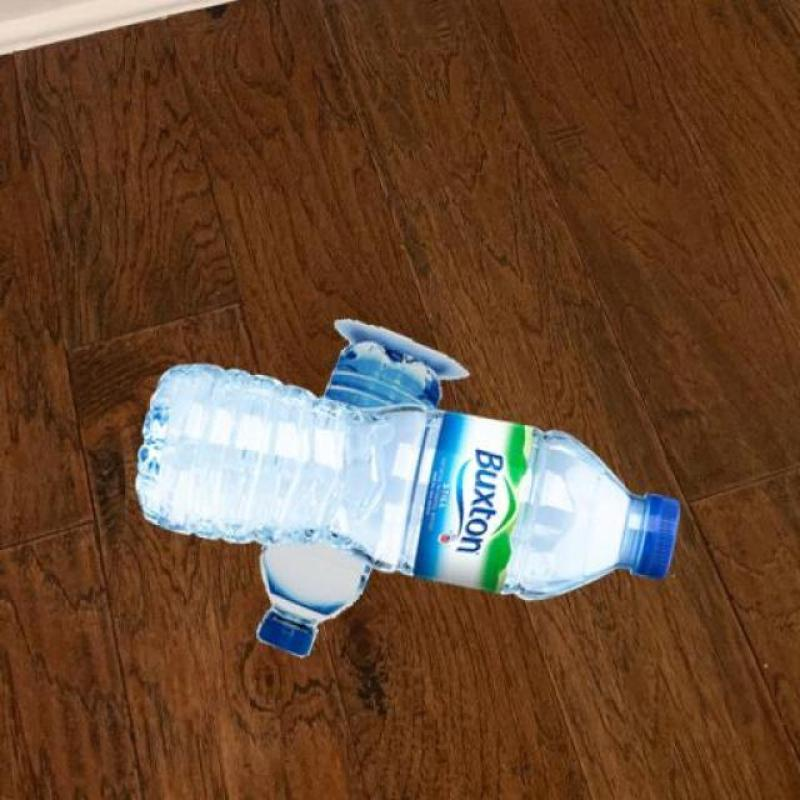botella: (132, 364, 679, 604), (255, 342, 443, 658)
